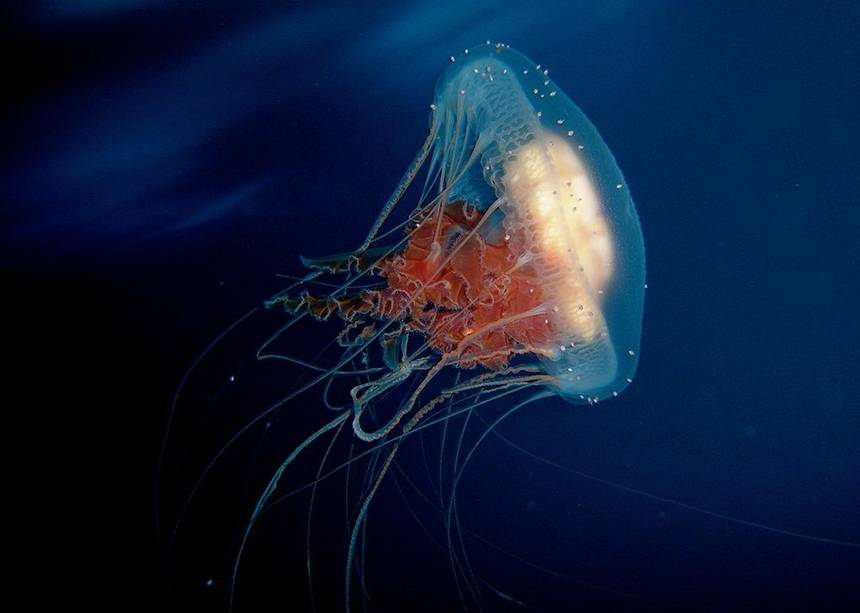jellyfish: (213, 33, 646, 607)
